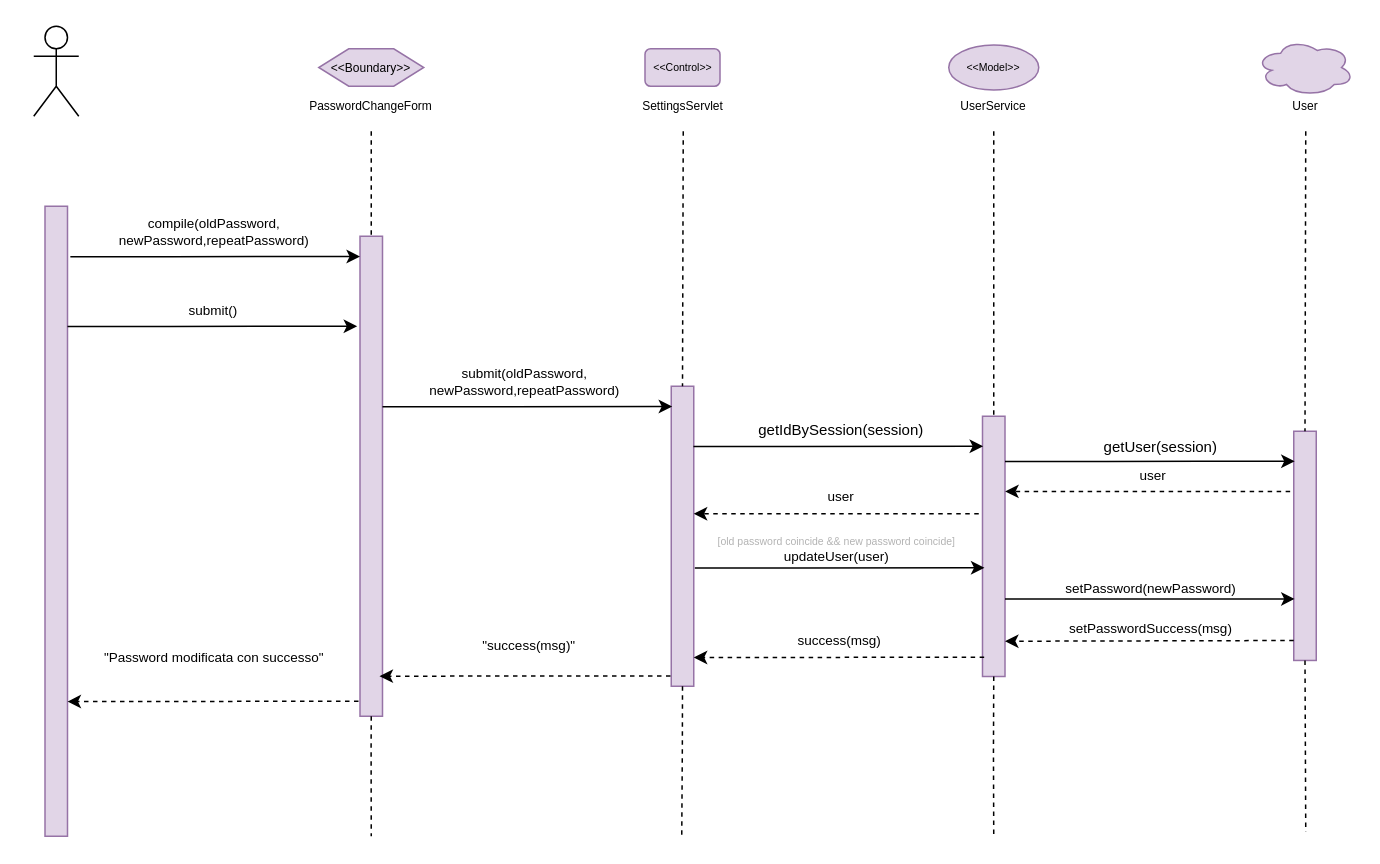
This 1380x864 diagram has some shape labels left out. The shapes that lost their labels are listed below. From the top down, each one's centre as x and y in pixels, then its label:
At (x=55, y=70): "Antonio".
At (x=1304, y=67): "<<Entity>>".
